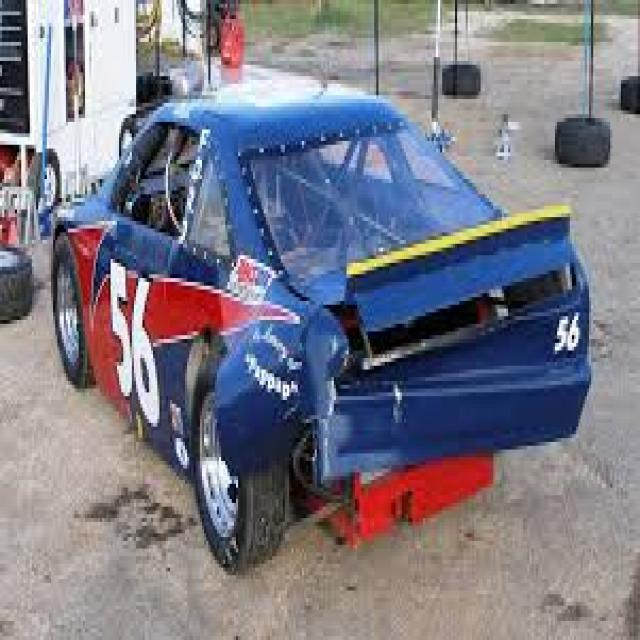moderate: (262, 162, 602, 491)
